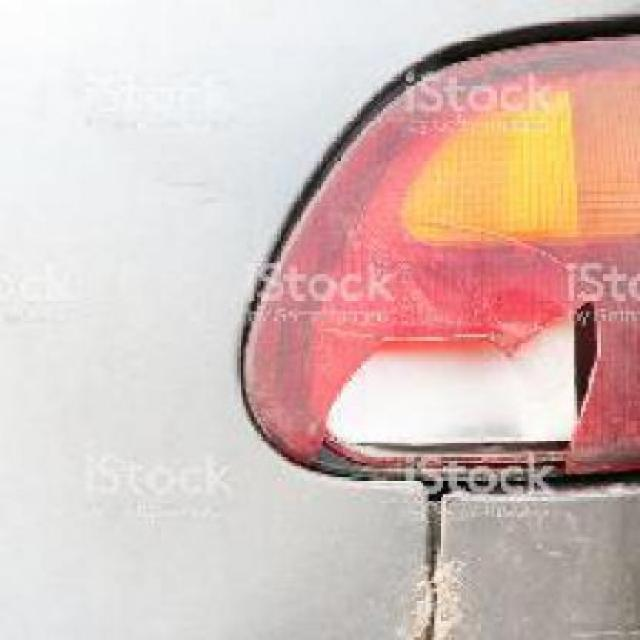damaged-tail-light: (245, 22, 638, 492)
